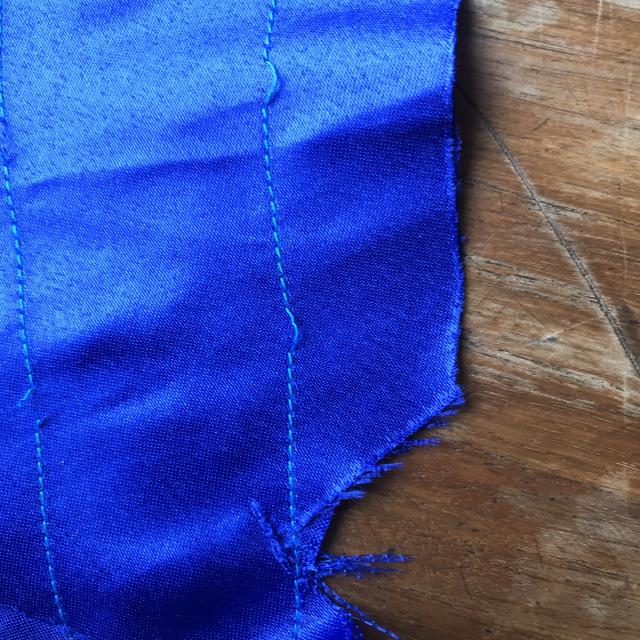broken: (7, 380, 78, 451)
good: (253, 163, 296, 262)
skip: (218, 40, 304, 127), (256, 296, 322, 385)
